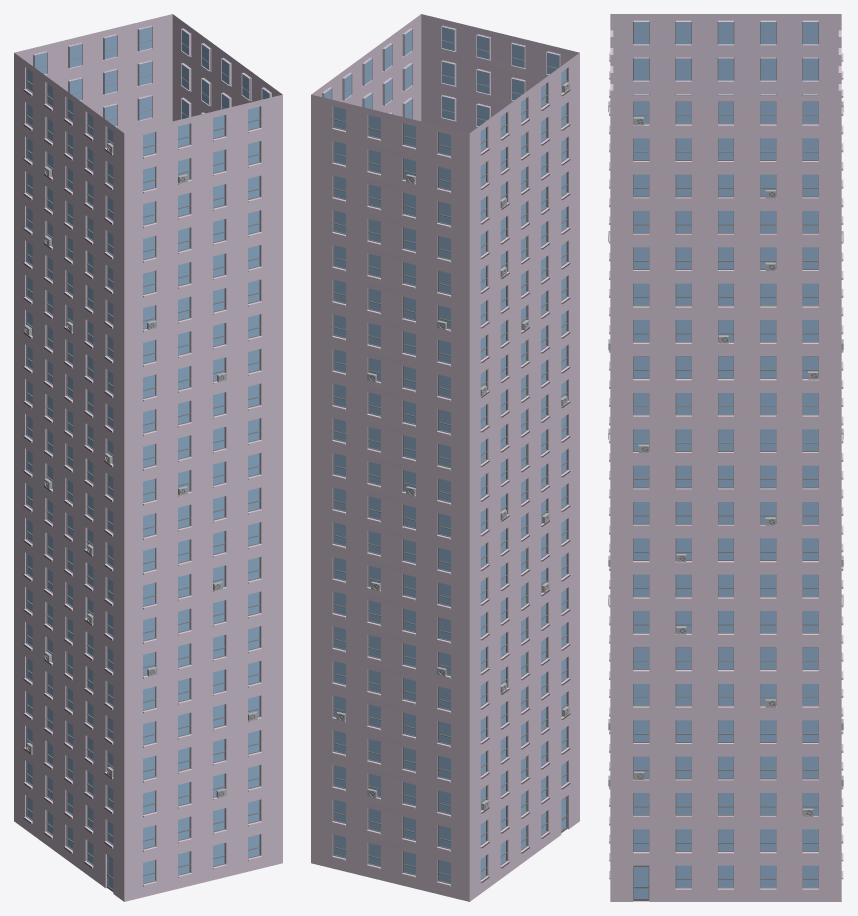
File: cityscene2_24.gltf
3 renders of one model, left to right at view 1: azimuth 30°, elevation 25°; view 2: azimuth 150°, elevation 25°; view 3: azimuth 270°, elevation 25°, orthographic. The views are drawn at different scales.
Parts seen in each view (by area): view 1: cityscene2_24; view 2: cityscene2_24; view 3: cityscene2_24.
Part boxes in pixels (x1,y1,x2,y2): cityscene2_24: [14, 14, 282, 901]; cityscene2_24: [311, 14, 579, 901]; cityscene2_24: [608, 14, 843, 901].
Size of the model in its own units: 8 by 36.47 by 9.64.
